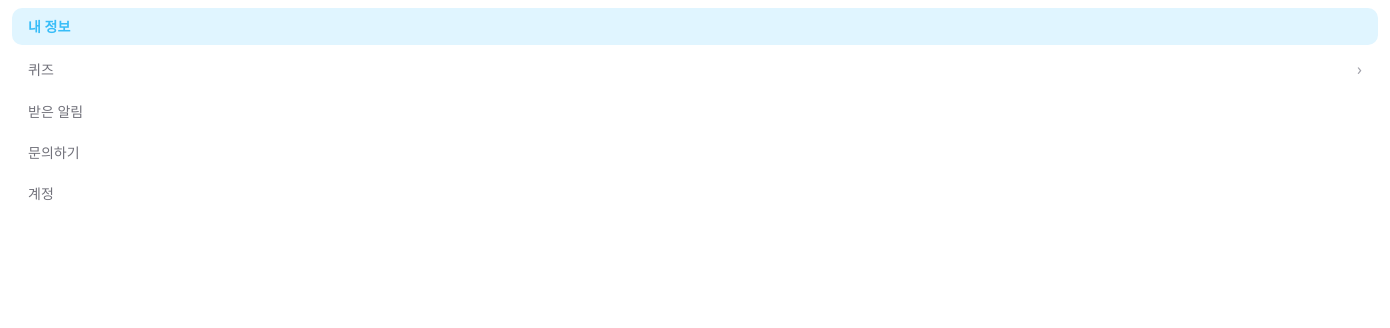
Test case: ProfileSidebar › isMe=true 일 때 › 퀴즈 그룹 헤더 클릭 시 자식 항목이 펼쳐진다
The image size is (1390, 328).
Click the button "퀴즈 ›".
click(41, 69)  # box [12,49,1378,89]
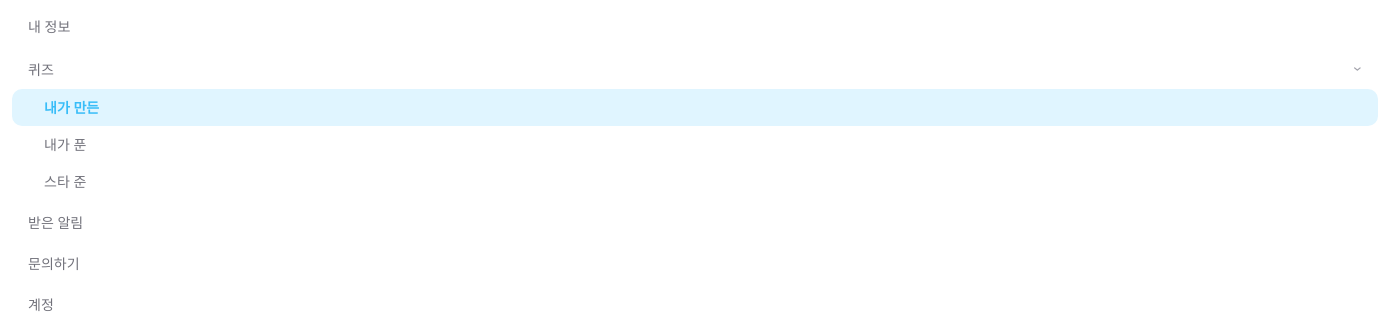
Check: the text "내가 만든" is shown, box [44,97,99,118]
Check: the text "내가 푼" is shown, box [44,134,86,155]
